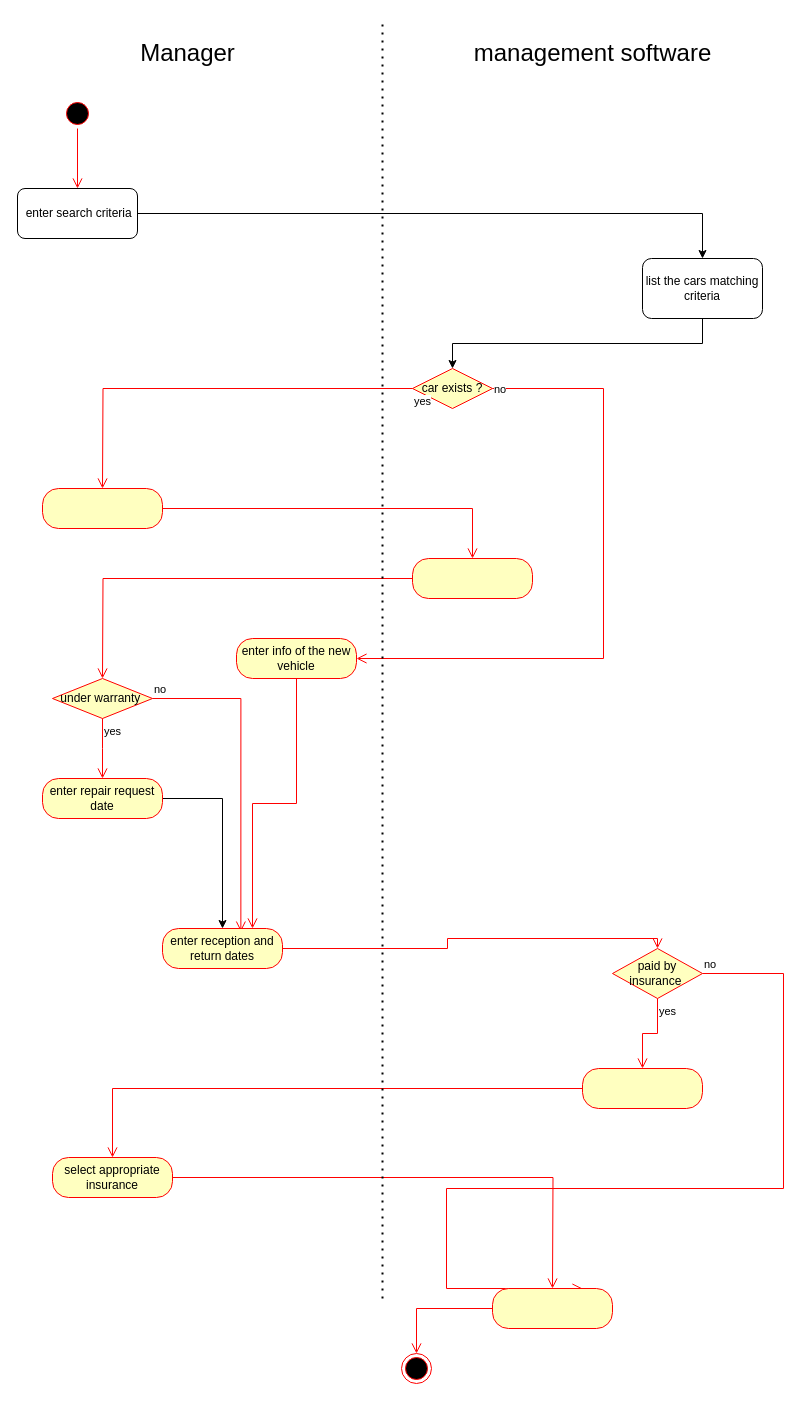
The diagram is 811 pixels wide and 1401 high, and some of its shapes have lost their labels. The shapes that lost their labels are listed below. From the top down, each one's box as (x1, y1, x2, y2) in pixels, then its label:
(42, 488, 162, 528): Select car
(412, 558, 532, 598): display car info
(582, 1068, 702, 1108): display list of iinsurance
(492, 1288, 612, 1328): record repair form
